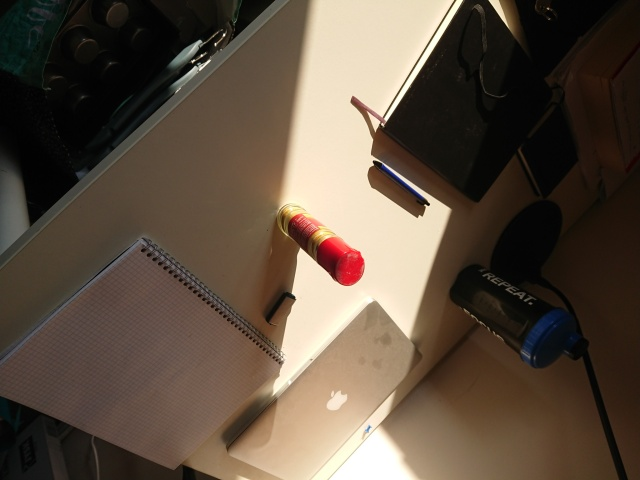Kotanyi Curry Spices Mix 70g: (275, 201, 367, 288)
